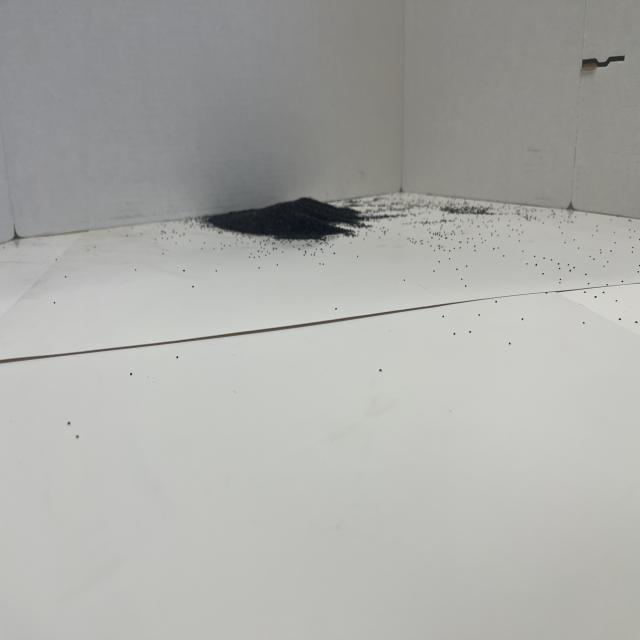Poppy Seeds: (194, 179, 368, 257)
